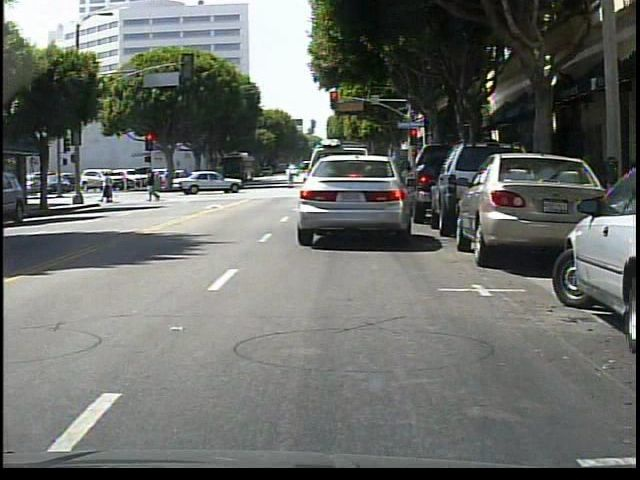person: (101, 173, 118, 206), (148, 171, 161, 203), (287, 166, 297, 190)
